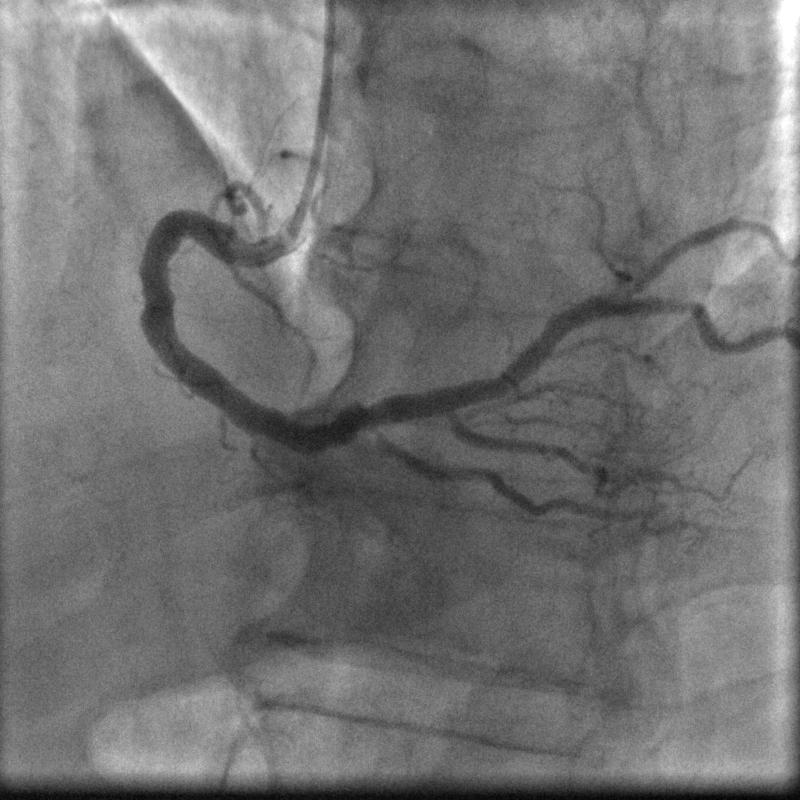Stenosis: (633, 293, 705, 318)
